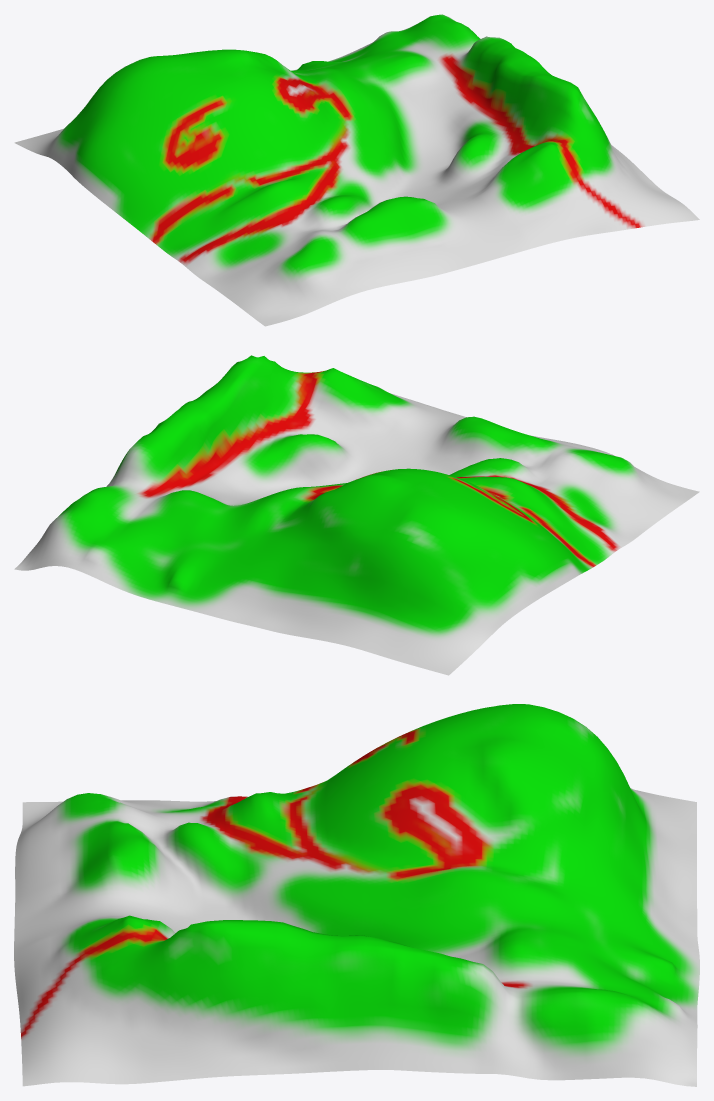
The model's file is SwampPlanes2.fbx.
3 views of the same model, one above another, from view 1: azimuth 30°, elevation 25°; view 2: azimuth 150°, elevation 25°; view 3: azimuth 270°, elevation 25° (orthographic). The views are drawn at different scales.
Visible parts, largest first — view 1: SwampPlaneHigh; view 2: SwampPlaneHigh; view 3: SwampPlaneHigh.
Boxes of the visible parts, box(x1,y1,x2,y2) form: SwampPlaneHigh: box(14, 14, 699, 326); SwampPlaneHigh: box(14, 355, 699, 675); SwampPlaneHigh: box(14, 704, 699, 1086).
Bounding box in the file's own units: 3177 × 716 × 3052.
